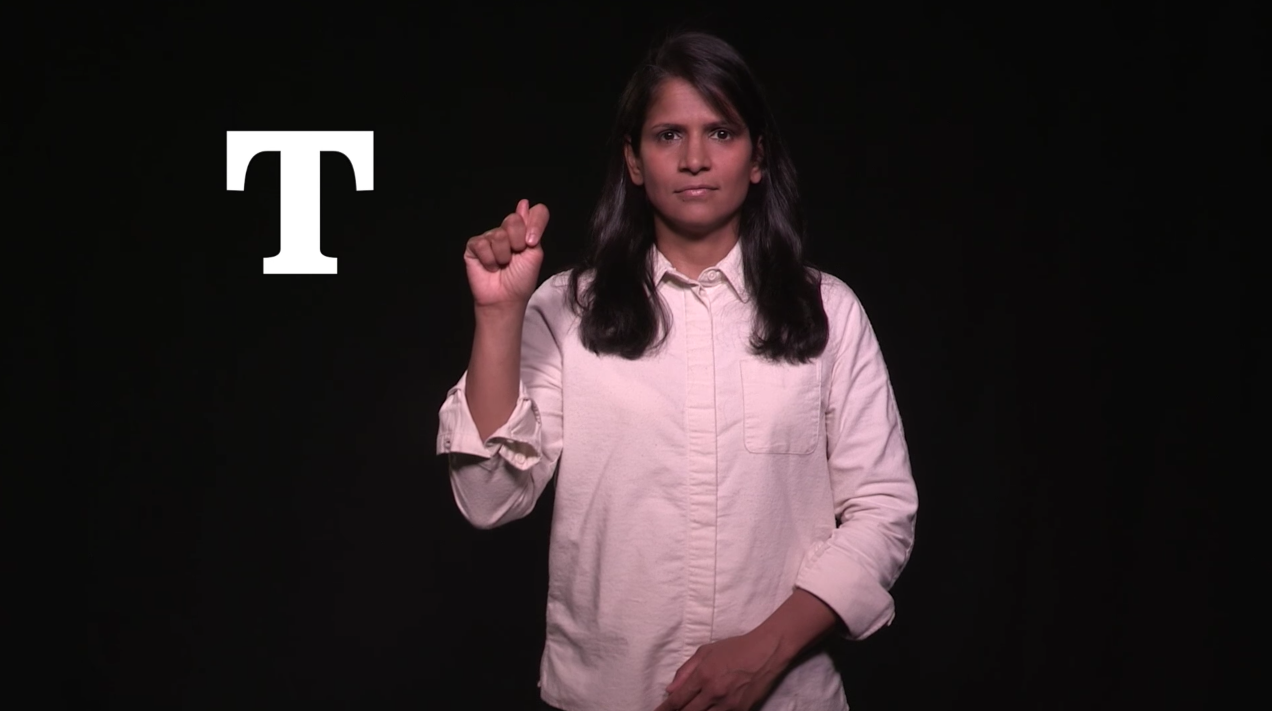t: (446, 186, 572, 325)
